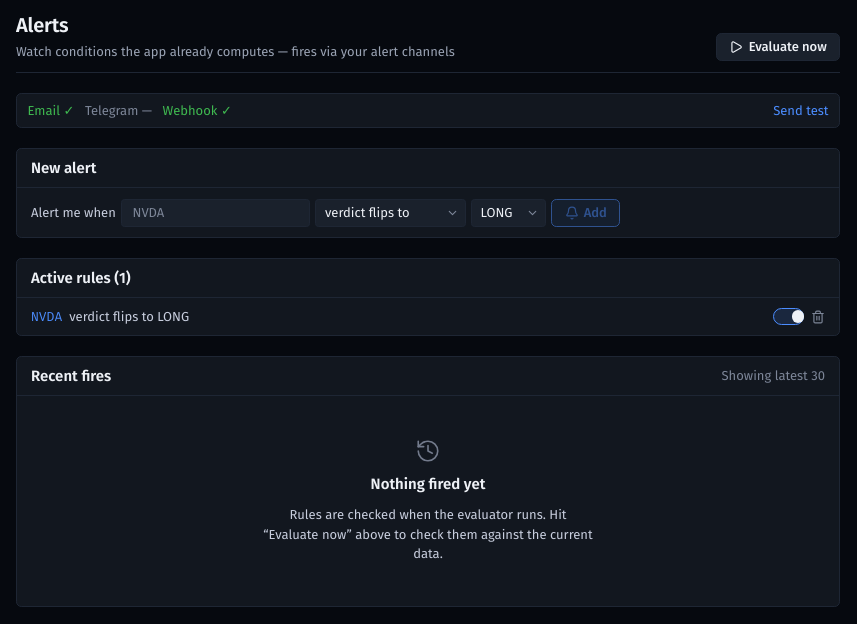
Test: AlertsPage channel status (AL-02) › shows configured/unconfigured state per channel and sends a test alert
Expected: the text "Email ✓" is shown, [28,100,74,120]
Expected: the text "Telegram —" is shown, [85,100,152,120]
Click the button "Send test" at (801, 110), box [773,100,828,120]
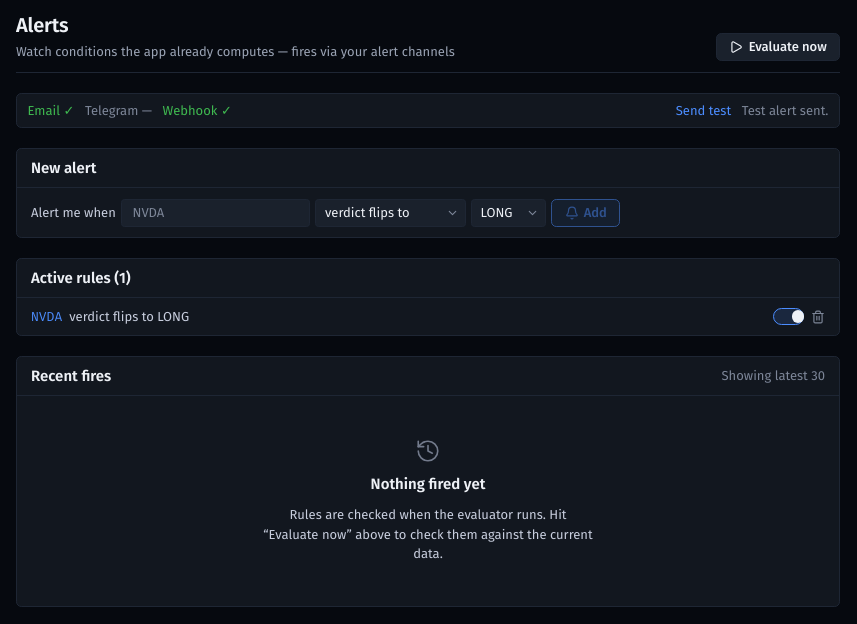
Expected: the text "Test alert sent." is shown, [742,100,828,120]
